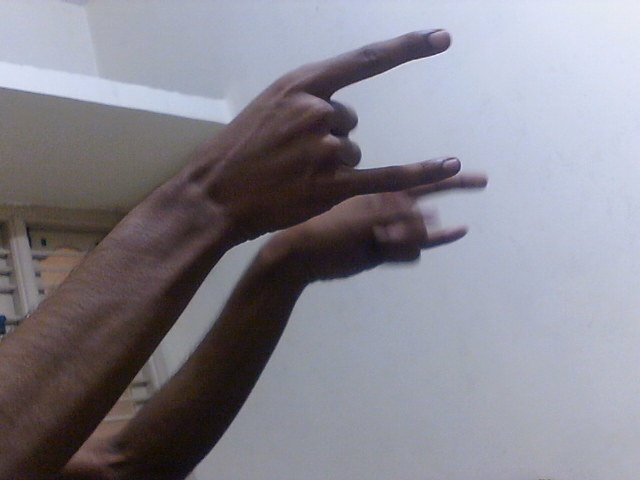hand: (183, 23, 465, 238), (266, 166, 491, 282)
